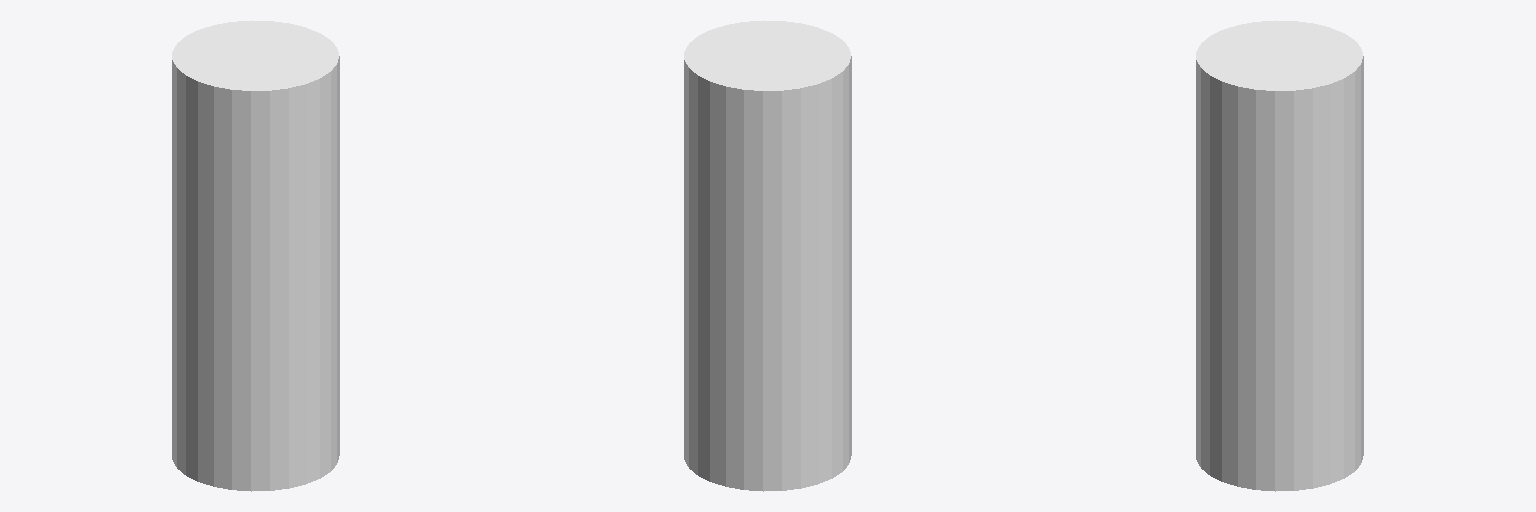
URDF robot description (tool_50):
<?xml version="1.0" encoding="utf-8"?>
<!-- This URDF was automatically created by SolidWorks to URDF Exporter! Originally created by [author] ([email redacted]) 
     Commit Version: 1.6.0-4-g7f85cfe  Build Version: 1.6.7995.38578
     For more information, please see http://wiki.ros.org/sw_urdf_exporter -->
<robot
  name="tool_50">
  <link
    name="base_link">
    <inertial>
      <origin
        xyz="8.6736E-19 0 0.025"
        rpy="0 0 0" />
      <mass
        value="0.014132" />
      <inertia
        ixx="3.2619E-06"
        ixy="-2.4277E-39"
        ixz="6.4757E-39"
        iyy="3.2619E-06"
        iyz="1.1479E-38"
        izz="6.3568E-07" />
    </inertial>
    <visual>
      <origin
        xyz="0 0 0"
        rpy="0 0 0" />
      <geometry>
        <mesh
          filename="package://tool_50/meshes/base_link.STL" />
      </geometry>
      <material
        name="">
        <color
          rgba="1 1 1 1" />
      </material>
    </visual>
    <collision>
      <origin
        xyz="0 0 0"
        rpy="0 0 0" />
      <geometry>
        <mesh
          filename="package://tool_50/meshes/base_link.STL" />
      </geometry>
    </collision>
  </link>
</robot>

--- What the picture shows (computed from the rendered views, not written in the file) ---
3 views of the same robot in one strip: view 1: azimuth 30°, elevation 25°; view 2: azimuth 150°, elevation 25°; view 3: azimuth 270°, elevation 25° (orthographic).
Robot: tool_50 — 1 links, 0 joints (none); root link base_link; default pose: all joints at 0.
Visible links, largest first — view 1: base_link; view 2: base_link; view 3: base_link.
Boxes of the visible links, bbox=[...] form: base_link: bbox=[172, 20, 339, 491]; base_link: bbox=[684, 20, 851, 491]; base_link: bbox=[1196, 20, 1363, 491].
Size in the robot's own frame: 0.0189 by 0.0189 by 0.05 metres.
1 mesh visuals loaded from 1 distinct referenced files (1 binary STL).